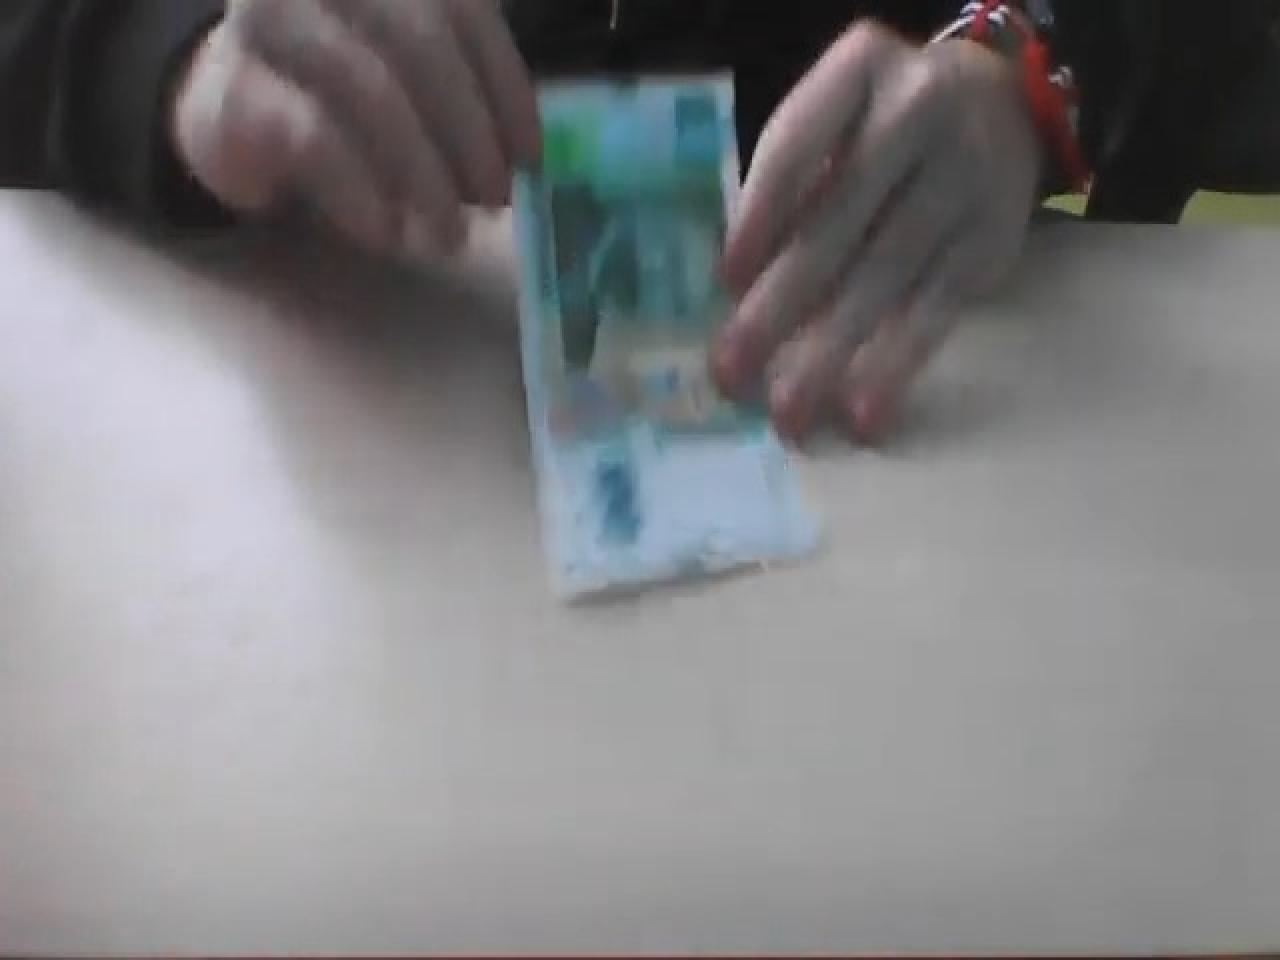100leva: (516, 72, 830, 611)
